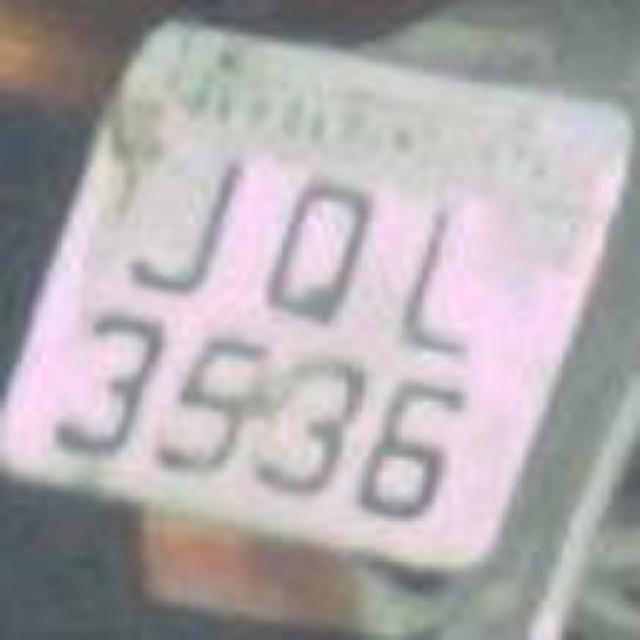3: (216, 320, 396, 520), (20, 272, 188, 472)
6: (315, 348, 500, 544)
9: (120, 300, 288, 488)
J: (112, 131, 252, 304), (371, 180, 504, 360)
O: (244, 144, 396, 336)
